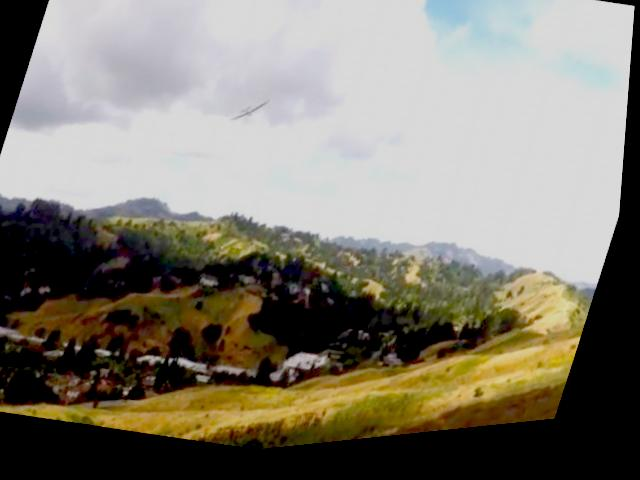iha: (232, 100, 271, 136)
